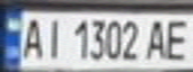0: (103, 16, 124, 62)
1: (66, 16, 90, 61)
2: (121, 17, 145, 62)
3: (87, 16, 109, 61)
A: (18, 15, 48, 61), (145, 16, 172, 62)
E: (160, 16, 193, 62)
I: (42, 15, 66, 60)
